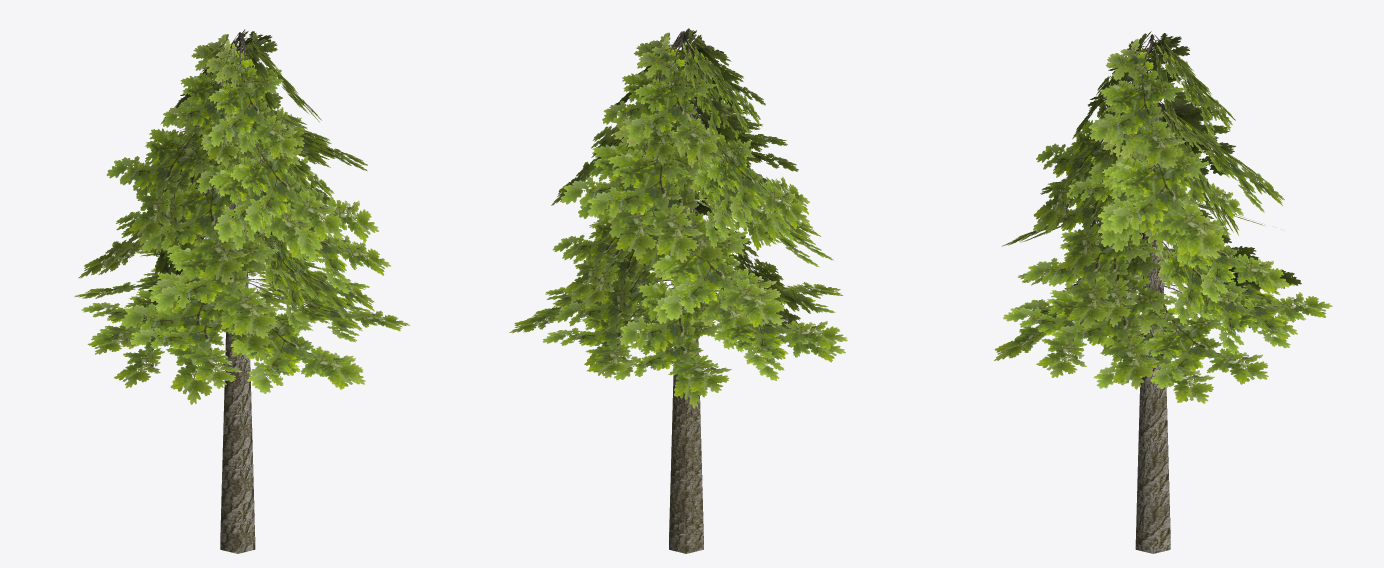
The model's file is tree.obj.
3 views of the same model, side by side, from view 1: azimuth 30°, elevation 25°; view 2: azimuth 150°, elevation 25°; view 3: azimuth 270°, elevation 25° (orthographic).
Parts seen in each view (by area): view 1: bark, branch011, branch007, branch037, branch042, branch047, branch029, branch016, branch012, branch010, branch043, branch015 (+21 smaller); view 2: branch008, branch035, bark, branch040, branch039, branch011, branch055, branch003, branch002, branch013, branch030, branch017 (+23 smaller); view 3: branch036, bark, branch031, branch045, branch041, branch006, branch037, branch015, branch030, branch032, branch019, branch014 (+21 smaller).
Boxes of the visible parts, x1=… form: bark: x1=220, y1=202, x2=255, y2=553; branch011: x1=106, y1=97, x2=213, y2=244; branch007: x1=153, y1=203, x2=279, y2=338; branch037: x1=220, y1=111, x2=343, y2=241; branch042: x1=206, y1=33, x2=297, y2=159; branch047: x1=141, y1=149, x2=256, y2=284; branch029: x1=230, y1=287, x2=362, y2=389; branch016: x1=121, y1=239, x2=227, y2=404; branch012: x1=162, y1=33, x2=254, y2=166; branch010: x1=201, y1=115, x2=319, y2=257; branch043: x1=130, y1=307, x2=242, y2=388; branch015: x1=244, y1=282, x2=410, y2=342; branch008: x1=587, y1=112, x2=709, y2=262; branch035: x1=642, y1=208, x2=784, y2=327; bark: x1=669, y1=115, x2=703, y2=553; branch040: x1=626, y1=32, x2=719, y2=164; branch039: x1=561, y1=109, x2=688, y2=260; branch011: x1=682, y1=100, x2=809, y2=229; branch055: x1=619, y1=247, x2=720, y2=408; branch003: x1=613, y1=289, x2=731, y2=392; branch002: x1=690, y1=304, x2=847, y2=368; branch013: x1=602, y1=32, x2=693, y2=164; branch030: x1=543, y1=283, x2=674, y2=378; branch017: x1=555, y1=258, x2=662, y2=375; branch036: x1=1108, y1=102, x2=1223, y2=258; bark: x1=1135, y1=117, x2=1170, y2=553; branch031: x1=1136, y1=287, x2=1268, y2=388; branch045: x1=1051, y1=240, x2=1175, y2=389; branch041: x1=1092, y1=35, x2=1185, y2=167; branch006: x1=1024, y1=201, x2=1147, y2=329; branch037: x1=1033, y1=112, x2=1113, y2=231; branch015: x1=1003, y1=278, x2=1136, y2=377; branch030: x1=1163, y1=279, x2=1332, y2=348; branch032: x1=1156, y1=219, x2=1289, y2=302; branch019: x1=1033, y1=164, x2=1134, y2=277; branch014: x1=1088, y1=36, x2=1181, y2=168.
Size of the model in its own units: 51.59 by 67.74 by 51.16.
1 material, 1 textured.
